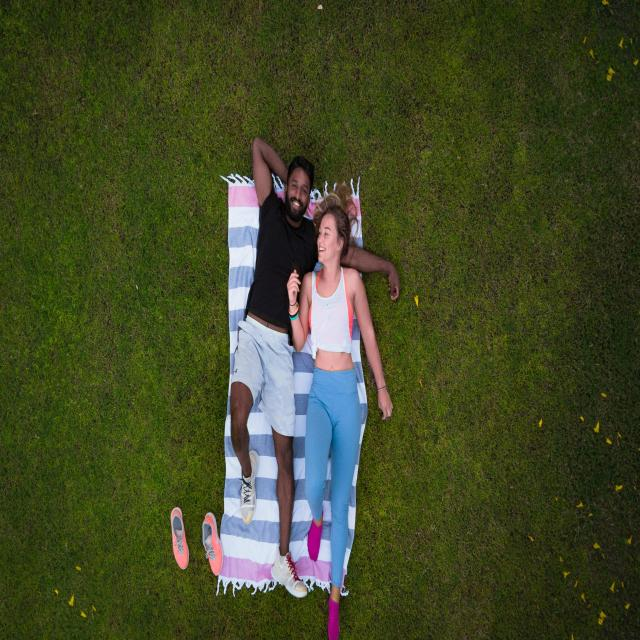lie: (242, 132, 311, 506), (311, 195, 365, 635)
